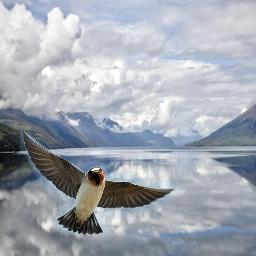Swallow: (20, 129, 174, 235)
